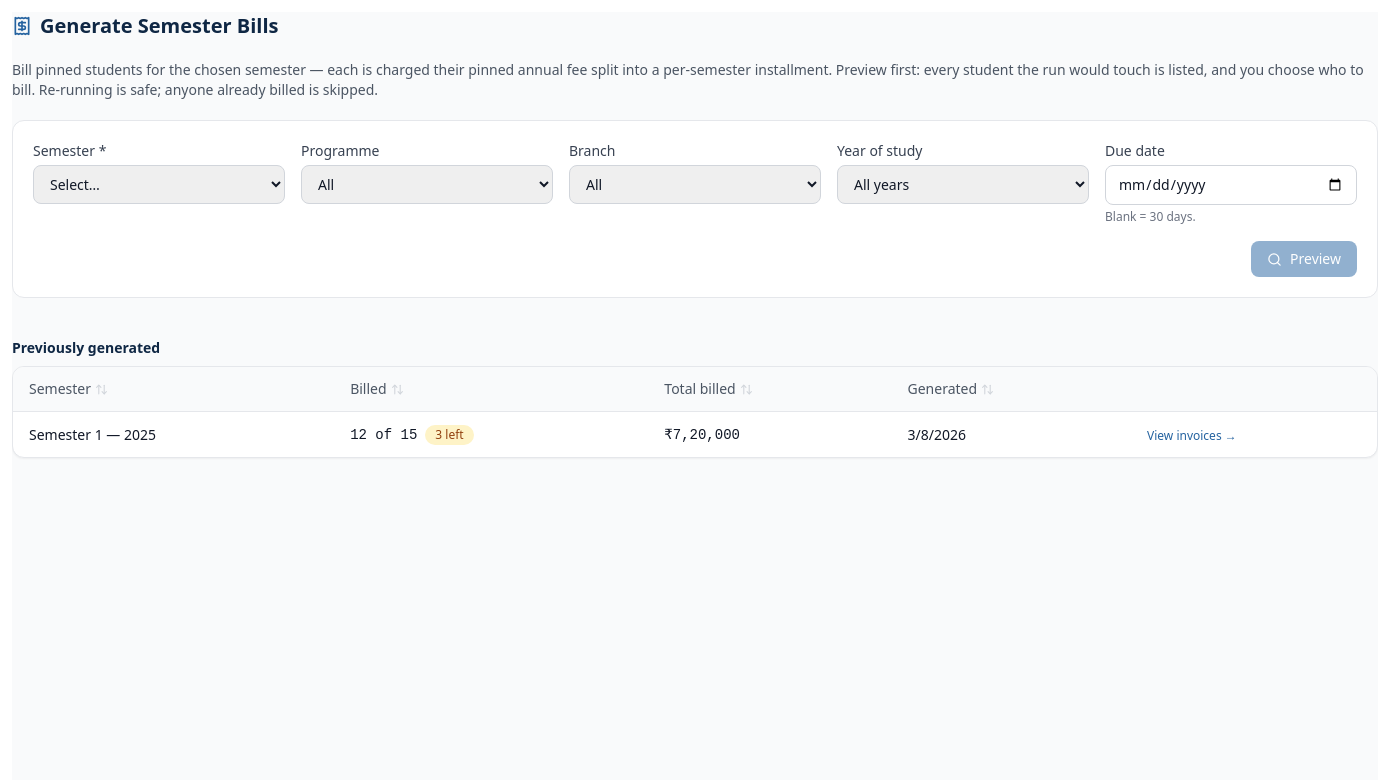
it: <GenerateBillsPage /> — generating › disables Generate once nothing is selected — the mass-bill guard
Select "Semester 1 — 2025 (active)" in the dropdown labelled "Semester *" at (159, 184), box top-left (33, 165), bottom-right (285, 204)
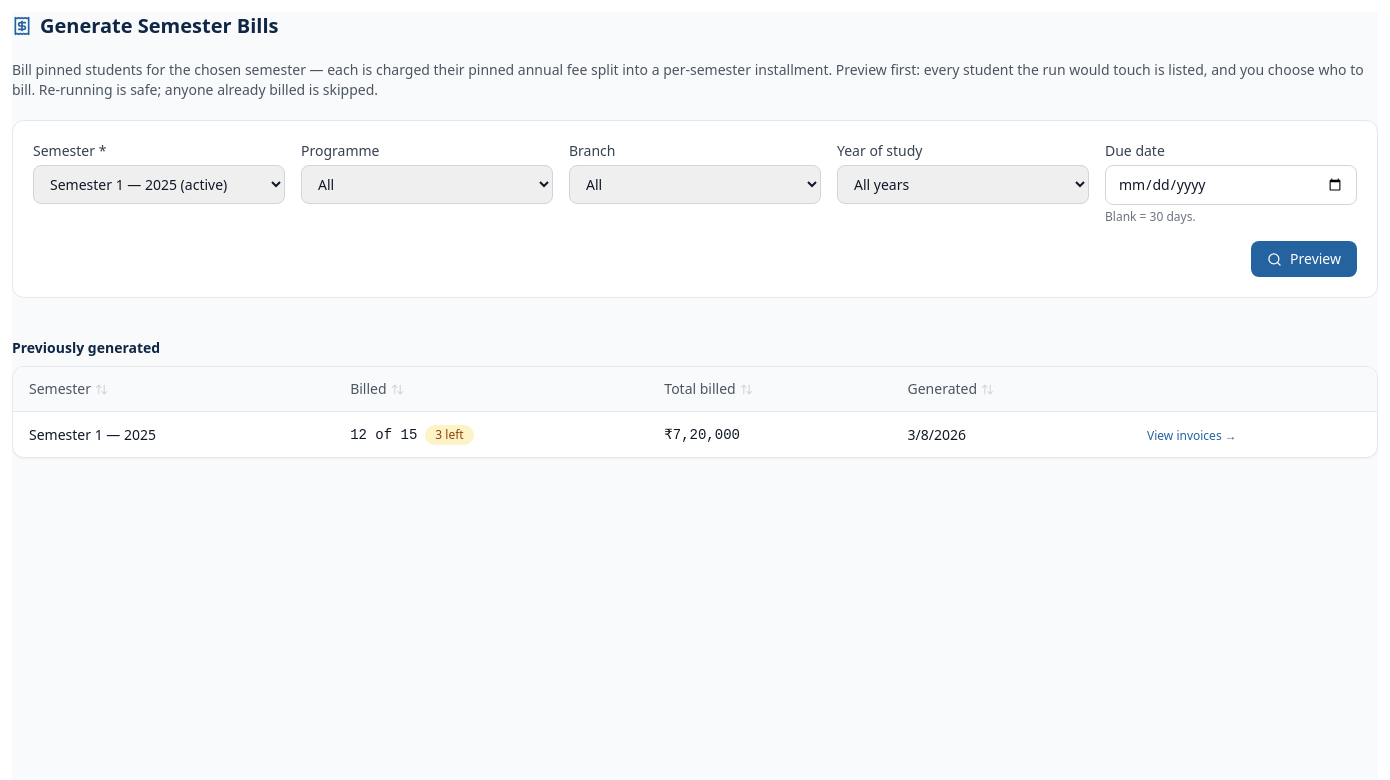
Click the button "Preview" at (1304, 259), box top-left (1251, 241), bottom-right (1357, 277)
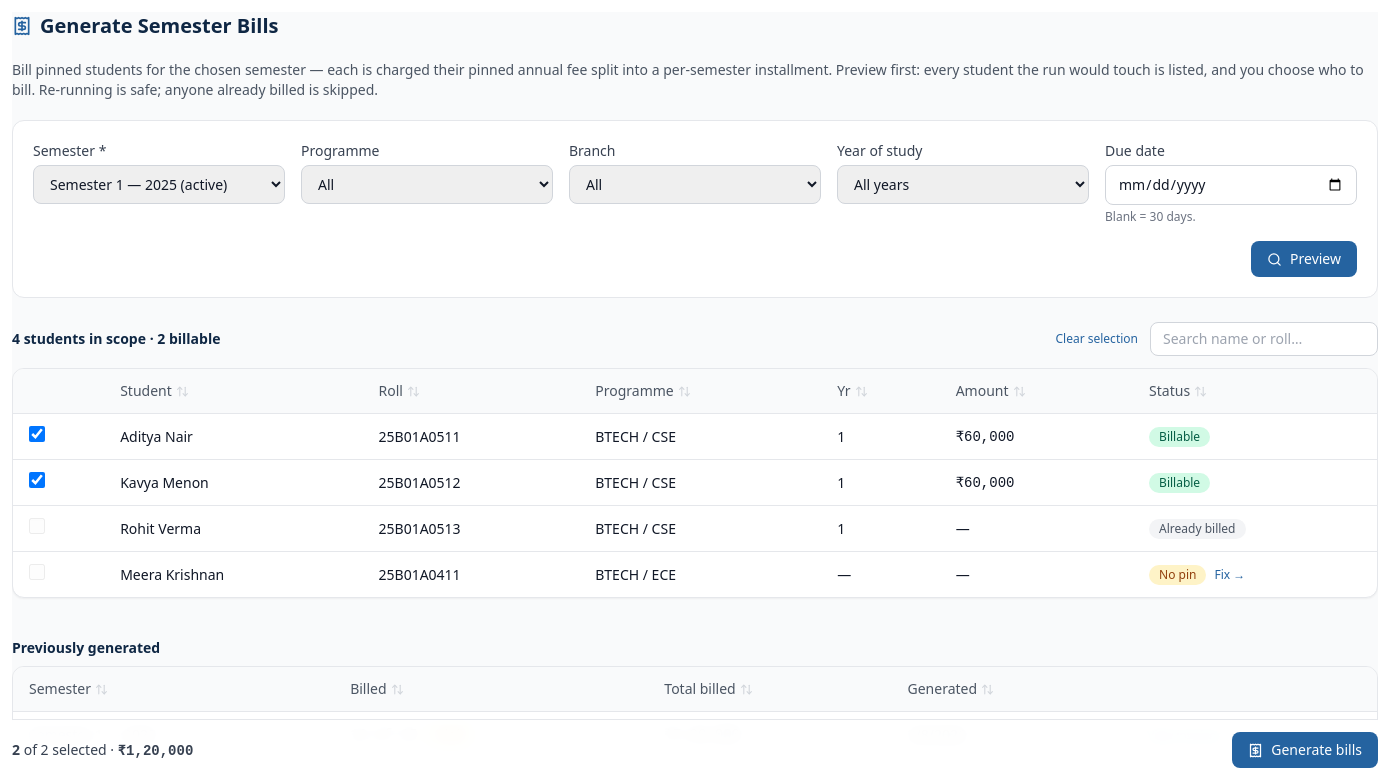
Now the text "Aditya Nair" is shown, box top-left (104, 414), bottom-right (362, 460)
Click the checkbox named "Select Aditya Nair" at (37, 434), box top-left (29, 426), bottom-right (45, 442)
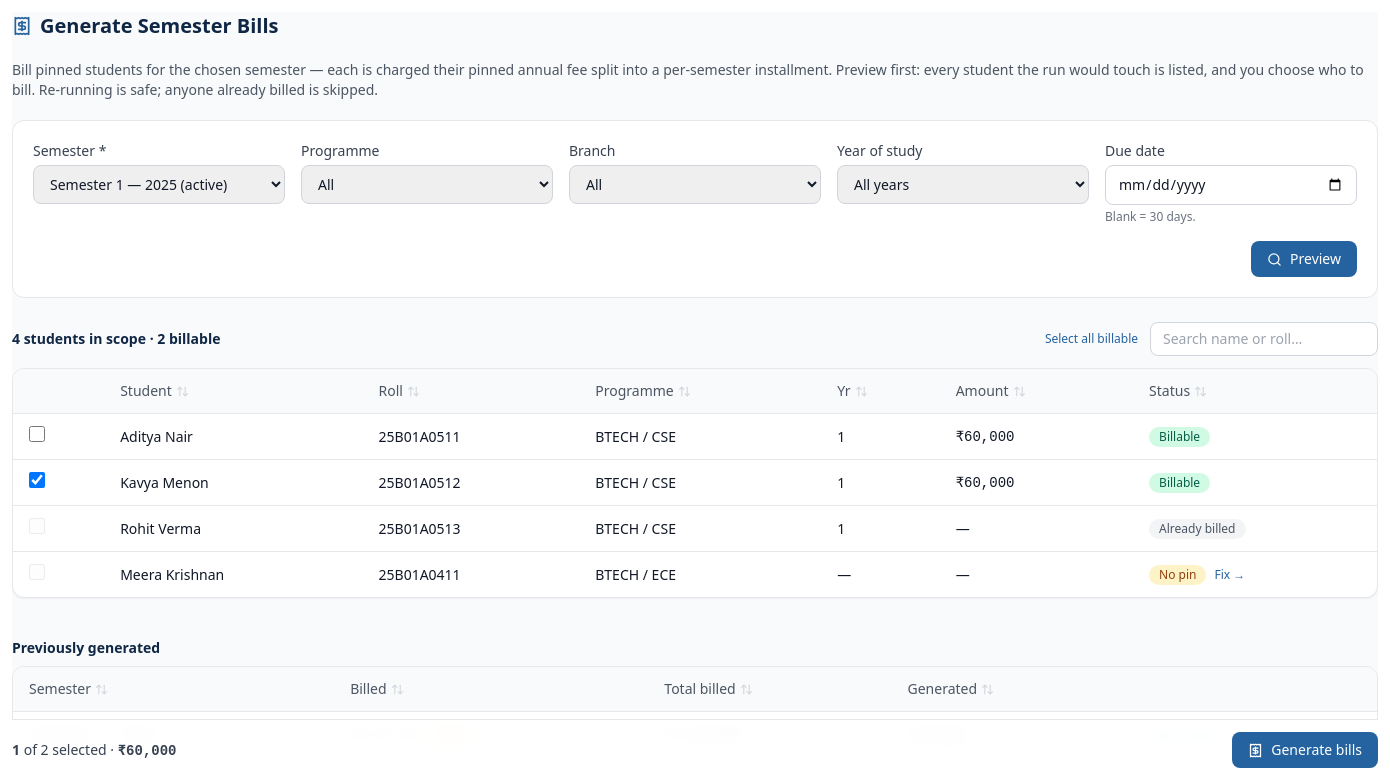
Click the checkbox named "Select Kavya Menon" at (37, 480), box top-left (29, 472), bottom-right (45, 488)
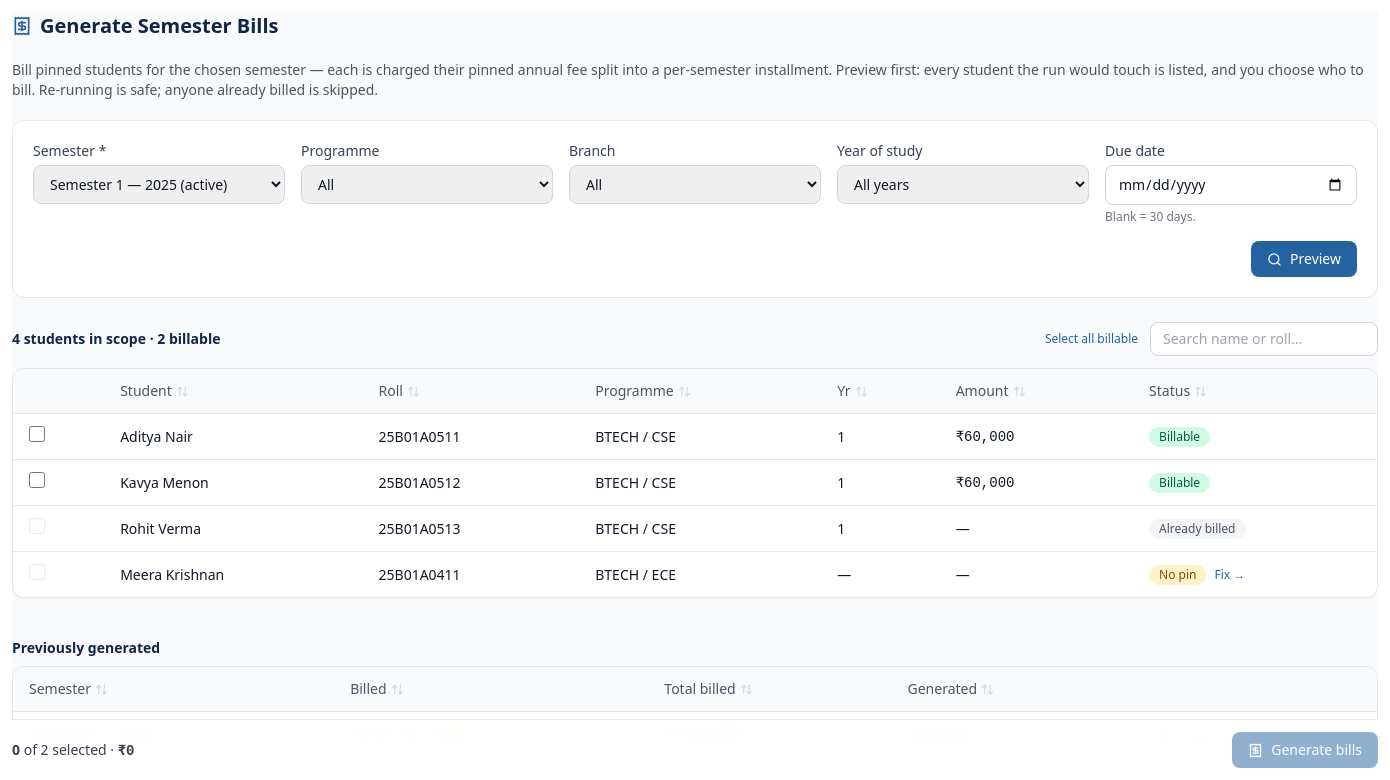
Now the button "Generate bills" is disabled, box top-left (1232, 732), bottom-right (1378, 768)
